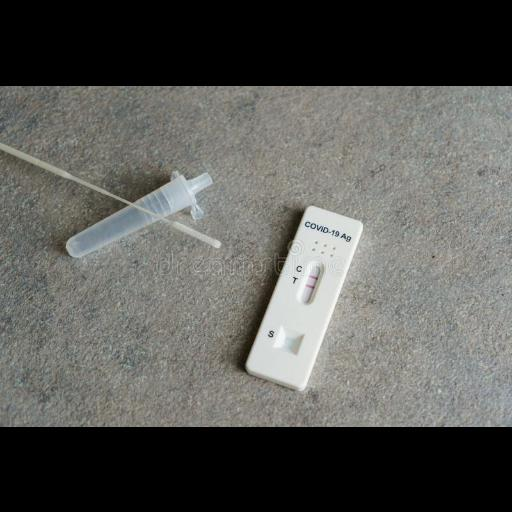Pos: (244, 204, 364, 388)
